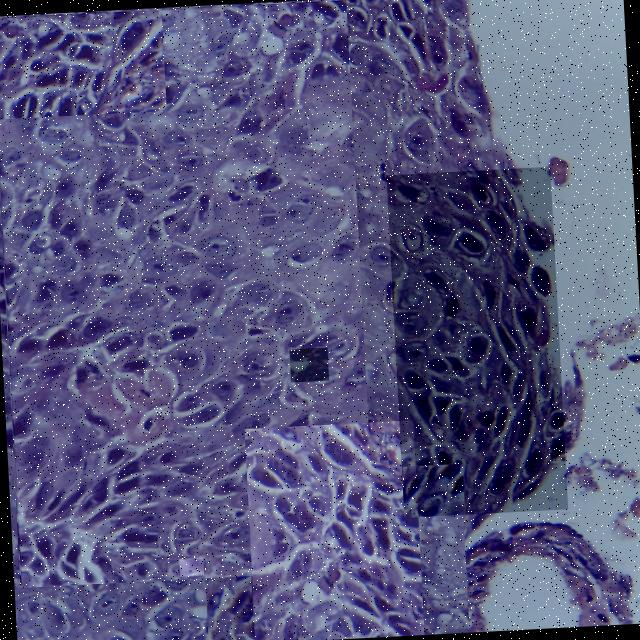Multiple Nucleol: (289, 348, 326, 380), (135, 542, 162, 574), (178, 558, 202, 576)
Nuclear Hyperchromatism: (0, 17, 370, 587), (396, 171, 563, 513), (245, 427, 419, 638)
